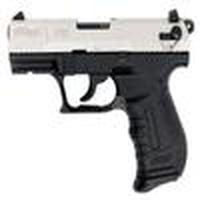gun: (6, 12, 199, 154)
